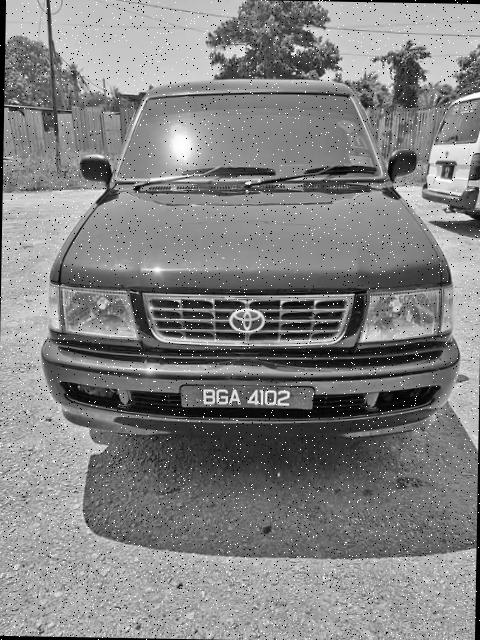License_Plate: (187, 385, 306, 414)
car: (37, 63, 467, 450)
